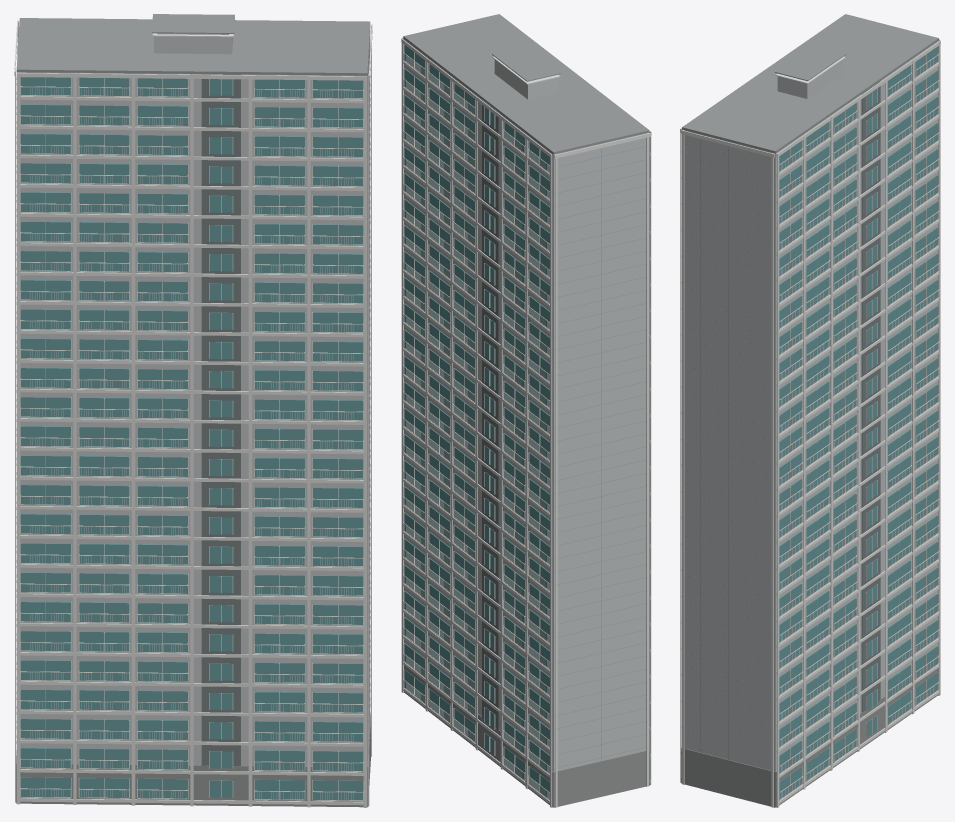
Rendered from bespoke-jamsil-ricenz-258.glb.
The picture shows the model from 3 angles, left to right: view 1: azimuth 30°, elevation 25°; view 2: azimuth 150°, elevation 25°; view 3: azimuth 270°, elevation 25°; orthographic projection. The views are drawn at different scales.
Visible parts, largest first — view 1: Ricenz258_editable_Ricenz258_turquoise_balcony_glazing, Ricenz258_editable_Ricenz258_light_grey_solid_wall, Ricenz258_white_exact_chunk_1, Ricenz258_white_exact_chunk_0, Ricenz258_editable_Ricenz258_modest_grey_flat_roof_caps, Ricenz258_editable_Ricenz258_narrow_charcoal_service_strips, Ricenz258_editable_Ricenz258_muted_ground_wall, Ricenz258_white_exact_chunk_3; view 2: Ricenz258_editable_Ricenz258_light_grey_solid_wall, Ricenz258_editable_Ricenz258_turquoise_balcony_glazing, Ricenz258_white_exact_chunk_3, Ricenz258_white_exact_chunk_2, Ricenz258_editable_Ricenz258_modest_grey_flat_roof_caps, Ricenz258_editable_Ricenz258_narrow_charcoal_service_strips, Ricenz258_editable_Ricenz258_muted_ground_wall, Ricenz258_white_exact_chunk_1; view 3: Ricenz258_editable_Ricenz258_light_grey_solid_wall, Ricenz258_editable_Ricenz258_turquoise_balcony_glazing, Ricenz258_white_exact_chunk_3, Ricenz258_white_exact_chunk_2, Ricenz258_editable_Ricenz258_modest_grey_flat_roof_caps, Ricenz258_white_exact_chunk_1, Ricenz258_editable_Ricenz258_narrow_charcoal_service_strips, Ricenz258_editable_Ricenz258_muted_ground_wall.
Boxes of the visible parts, left/top/right/bottom form: Ricenz258_editable_Ricenz258_turquoise_balcony_glazing: left=20, top=77, right=363, bottom=800; Ricenz258_editable_Ricenz258_light_grey_solid_wall: left=16, top=27, right=370, bottom=766; Ricenz258_white_exact_chunk_1: left=16, top=24, right=372, bottom=807; Ricenz258_white_exact_chunk_0: left=20, top=77, right=190, bottom=803; Ricenz258_editable_Ricenz258_modest_grey_flat_roof_caps: left=16, top=14, right=370, bottom=762; Ricenz258_editable_Ricenz258_narrow_charcoal_service_strips: left=201, top=74, right=240, bottom=765; Ricenz258_editable_Ricenz258_muted_ground_wall: left=16, top=715, right=370, bottom=807; Ricenz258_white_exact_chunk_3: left=14, top=20, right=233, bottom=802; Ricenz258_editable_Ricenz258_light_grey_solid_wall: left=403, top=38, right=649, bottom=771; Ricenz258_editable_Ricenz258_turquoise_balcony_glazing: left=404, top=45, right=549, bottom=798; Ricenz258_white_exact_chunk_3: left=401, top=38, right=650, bottom=807; Ricenz258_white_exact_chunk_2: left=402, top=44, right=500, bottom=765; Ricenz258_editable_Ricenz258_modest_grey_flat_roof_caps: left=403, top=14, right=649, bottom=768; Ricenz258_editable_Ricenz258_narrow_charcoal_service_strips: left=482, top=99, right=499, bottom=729; Ricenz258_editable_Ricenz258_muted_ground_wall: left=404, top=660, right=650, bottom=807; Ricenz258_white_exact_chunk_1: left=402, top=37, right=651, bottom=784; Ricenz258_editable_Ricenz258_light_grey_solid_wall: left=682, top=40, right=938, bottom=771; Ricenz258_editable_Ricenz258_turquoise_balcony_glazing: left=779, top=46, right=937, bottom=798; Ricenz258_white_exact_chunk_3: left=775, top=39, right=940, bottom=807; Ricenz258_white_exact_chunk_2: left=776, top=102, right=885, bottom=785; Ricenz258_editable_Ricenz258_modest_grey_flat_roof_caps: left=682, top=14, right=938, bottom=767; Ricenz258_white_exact_chunk_1: left=680, top=128, right=803, bottom=807; Ricenz258_editable_Ricenz258_narrow_charcoal_service_strips: left=861, top=81, right=880, bottom=712; Ricenz258_editable_Ricenz258_muted_ground_wall: left=681, top=663, right=938, bottom=807.
Size of the model in its own units: 33.99 by 77.11 by 26.95.
